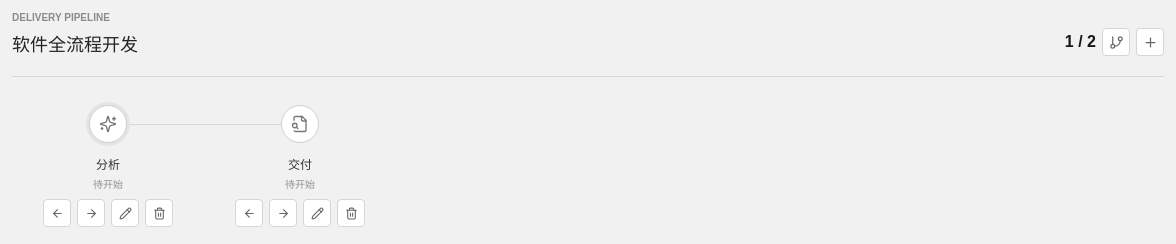
Test: RequirementWorkflowNodeEditor transient command failures › publishes a safe Toast when deleting a node fails
Click the button named "删除分析节点": {"x": 159, "y": 213} [145,199,173,227]
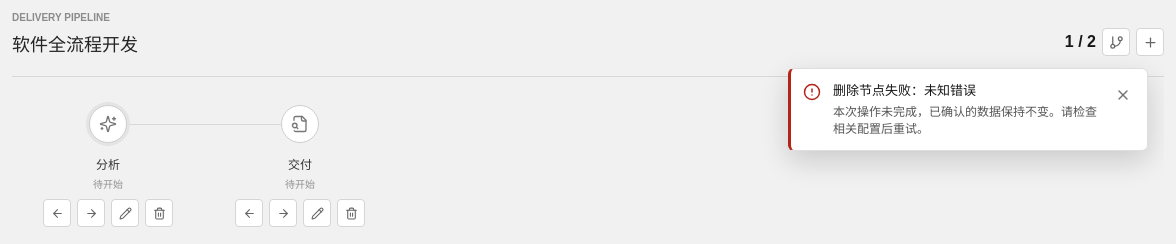
Now the message shows "删除节点失败：未知错误", box [833,83,976,98]
